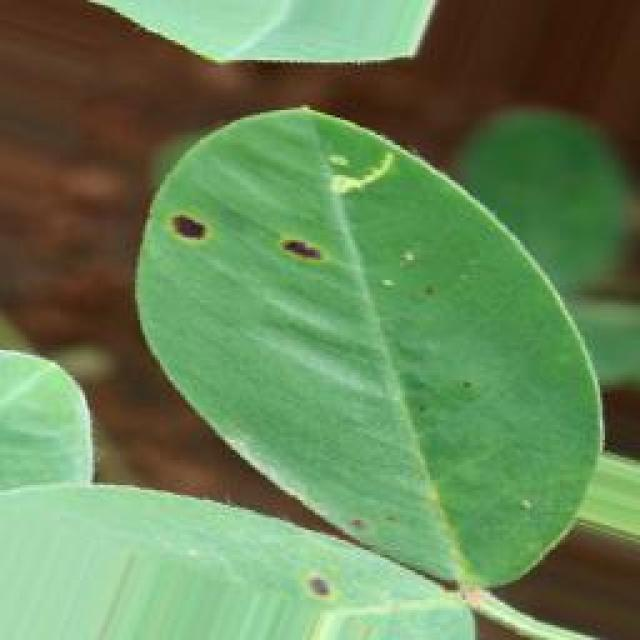Sigatoka: (272, 543, 354, 618), (164, 185, 229, 259), (261, 213, 319, 279)
